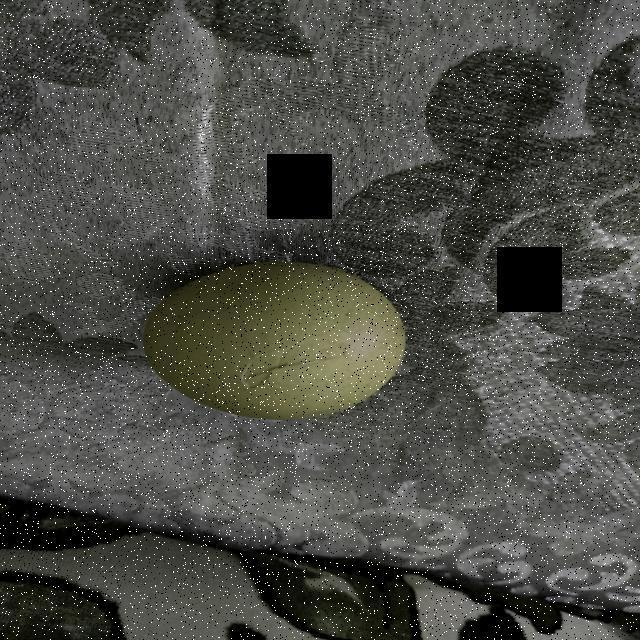egg: (142, 260, 408, 422)
